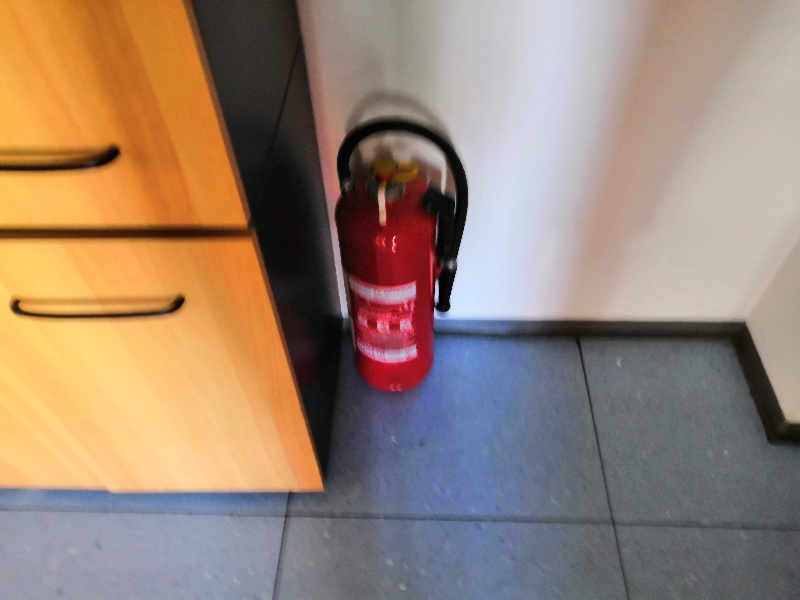vataparat: (334, 117, 468, 395)
